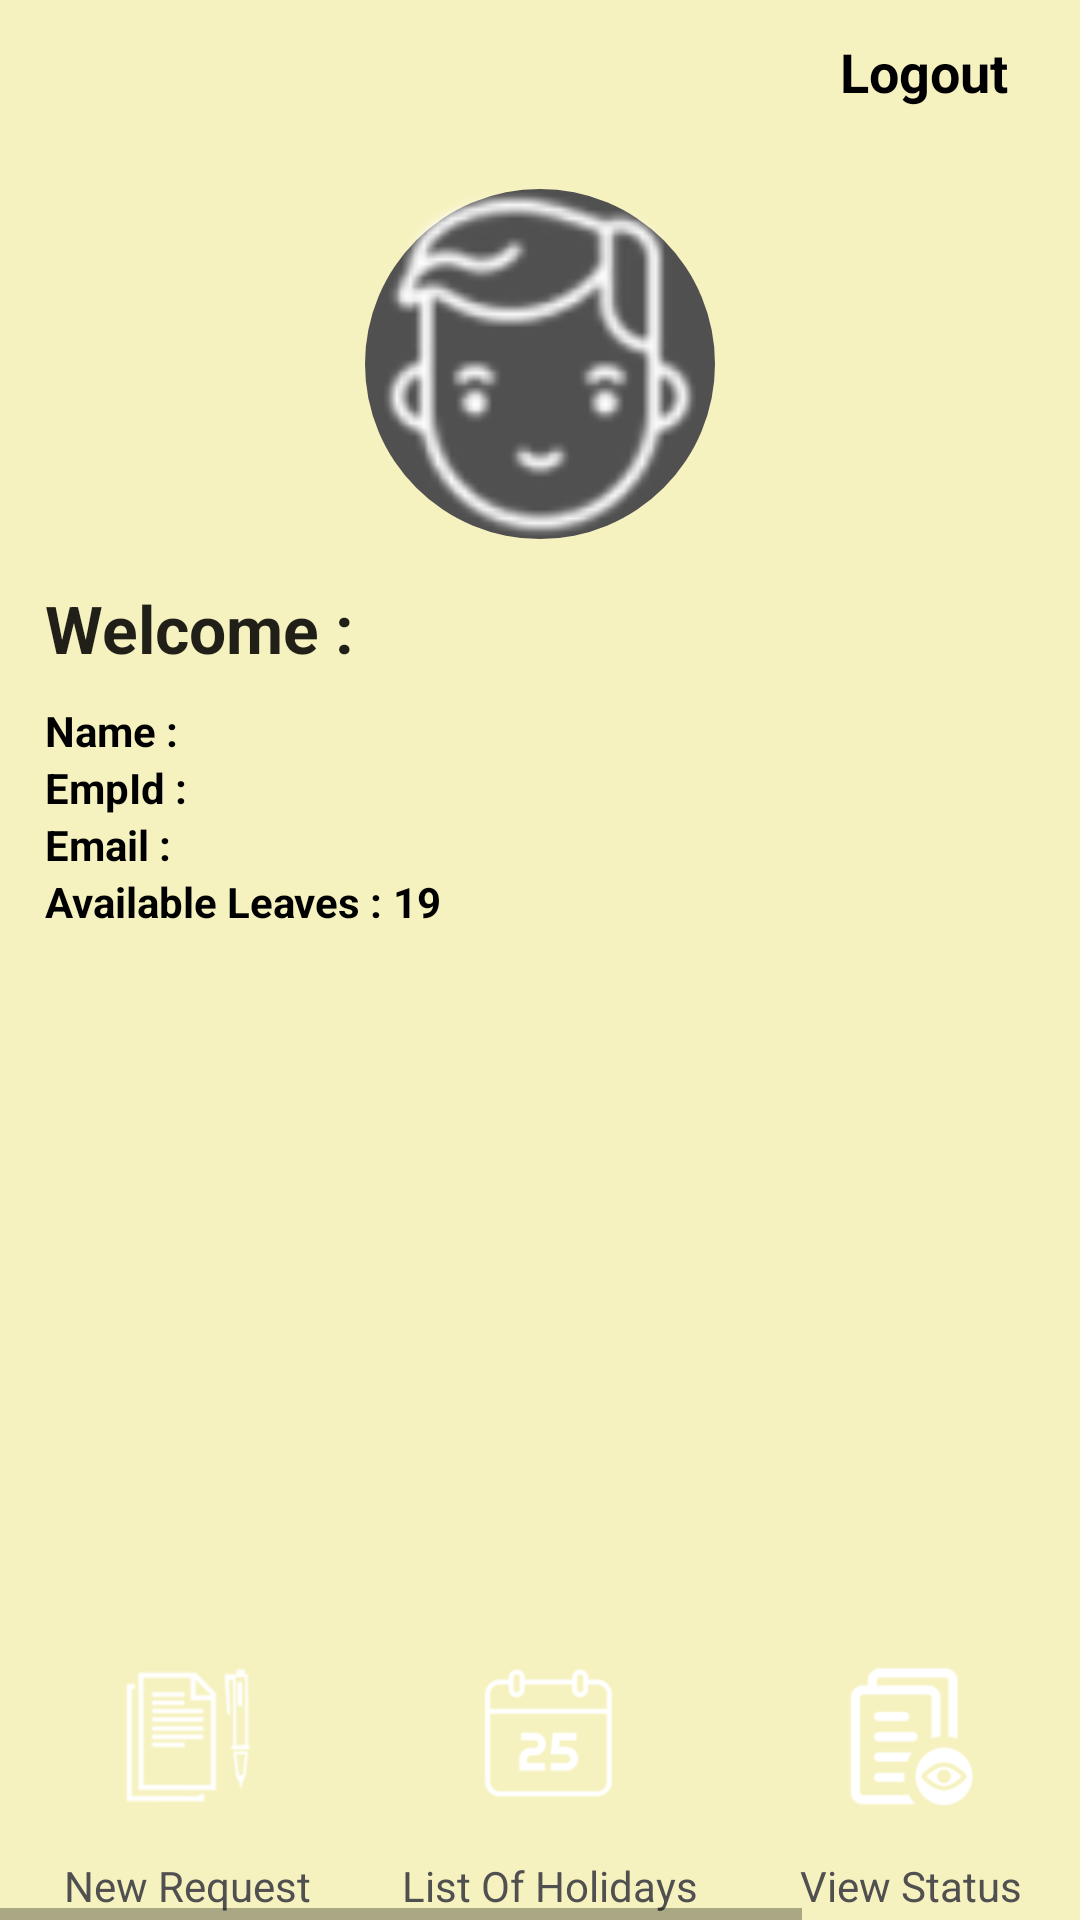

Screen size 1080w x 1920h. Icon name, then its box in pixels as {"left": x1, "top": y1, "right": x2, "bottom": y2}:
usericon: {"left": 365, "top": 189, "right": 715, "bottom": 539}
